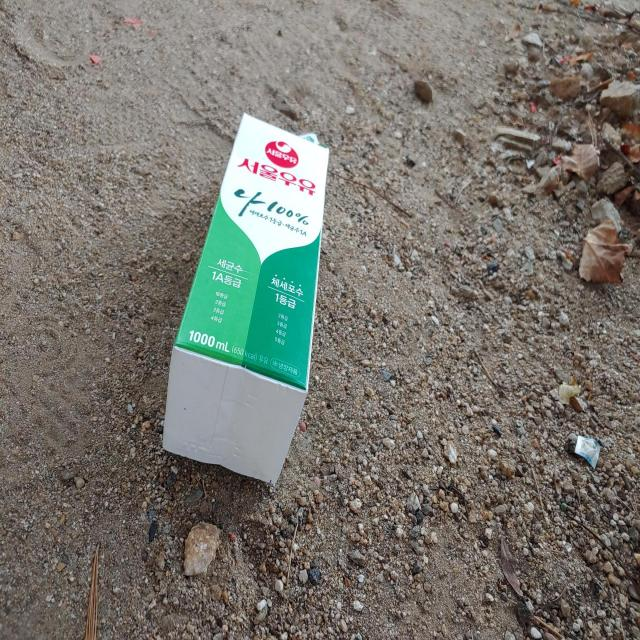paperpack: (162, 112, 329, 483)
